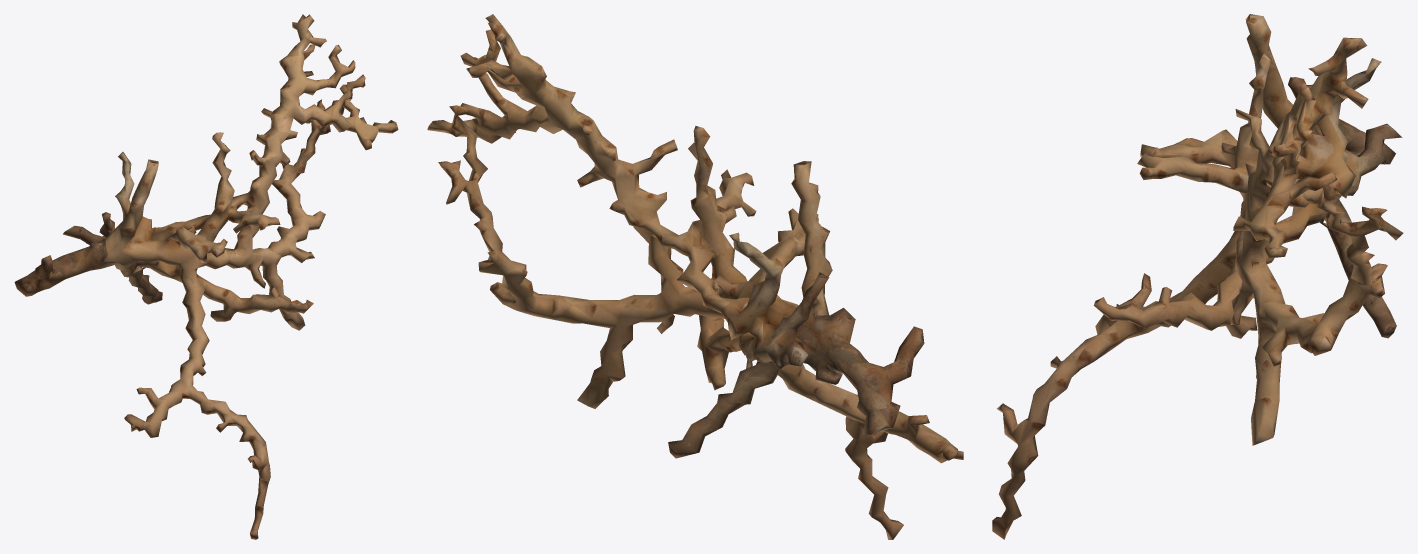
Rendered from scan_coral_madrepora.glb.
The picture shows the model from 3 angles, left to right: view 1: azimuth 30°, elevation 25°; view 2: azimuth 150°, elevation 25°; view 3: azimuth 270°, elevation 25°; orthographic projection. The views are drawn at different scales.
Visible parts, largest first — view 1: scan_coral_madrepora; view 2: scan_coral_madrepora; view 3: scan_coral_madrepora.
Part boxes in pixels (box(x1,y1,x2,y2)): scan_coral_madrepora: box(14, 14, 398, 539); scan_coral_madrepora: box(427, 14, 963, 539); scan_coral_madrepora: box(992, 14, 1403, 539).
Size of the model in its own units: 0.5436 by 0.6003 by 0.3573.
1 material, 1 textured.
